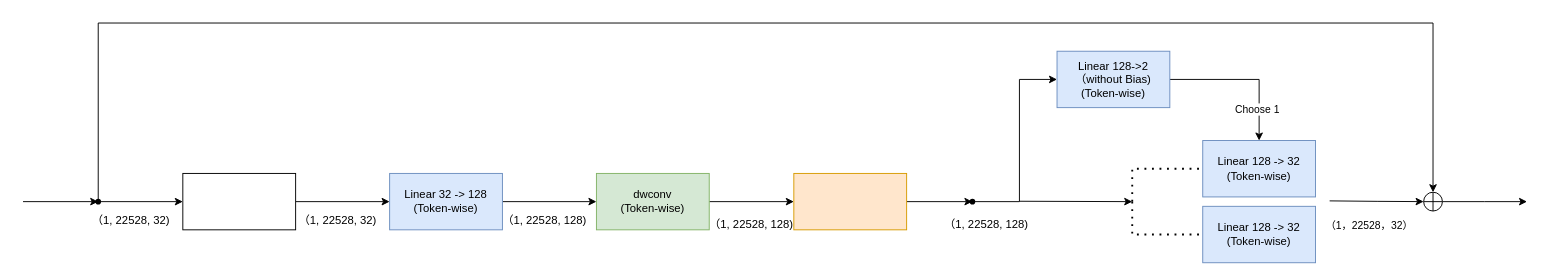
The diagram is 1551 pixels wide and 279 high, and some of its shapes have lost their labels. The shapes that lost their labels are listed below. From the top down, each one's centre as x and y in pixels, then its label:
At [239,201]: "LayerNorm (Element-wise)".
At [850,201]: "activate Layer (Element-wise)".
